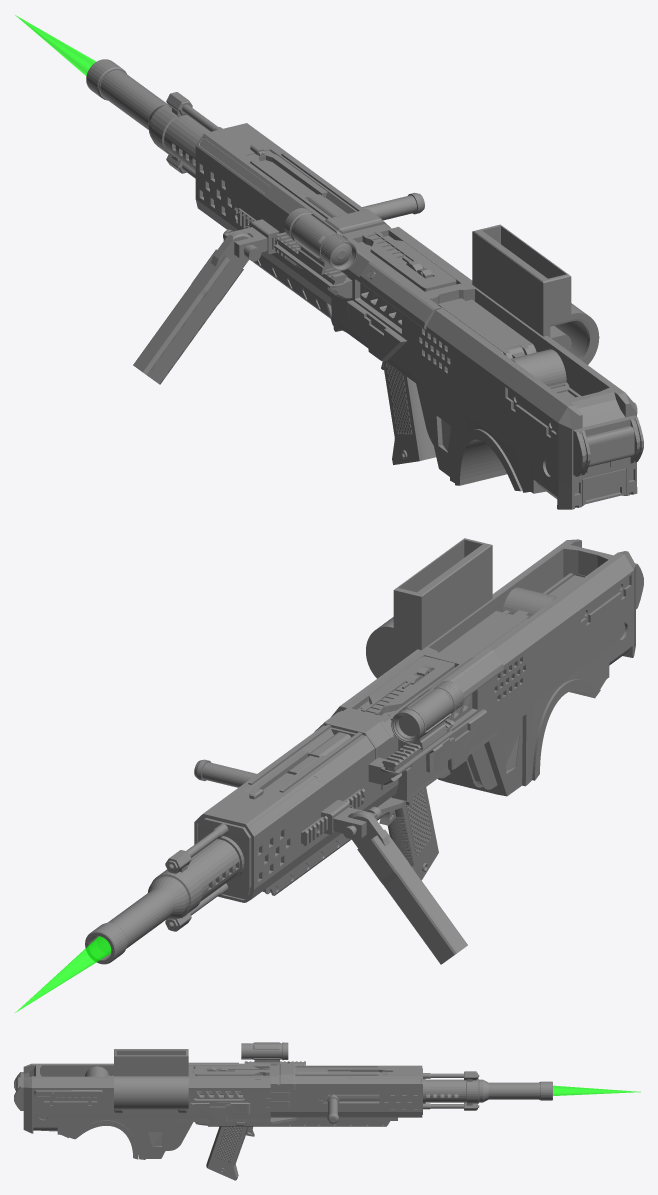
File: Autocannon.glb
The picture shows the model from 3 angles, top to bottom: view 1: azimuth 30°, elevation 25°; view 2: azimuth 150°, elevation 25°; view 3: azimuth 270°, elevation 25°; orthographic projection. The views are drawn at different scales.
Visible parts, largest first — view 1: Unfit_Autocannon_scale_model, Cone; view 2: Unfit_Autocannon_scale_model, Cone; view 3: Unfit_Autocannon_scale_model, Cone.
Part boxes in pixels (box(x1,y1,x2,y2)): Unfit_Autocannon_scale_model: box(86, 59, 643, 509); Cone: box(15, 15, 96, 76); Unfit_Autocannon_scale_model: box(85, 538, 643, 964); Cone: box(15, 936, 111, 1012); Unfit_Autocannon_scale_model: box(14, 1042, 552, 1180); Cone: box(553, 1085, 640, 1095).
Bounding box in the file's own units: 405 × 364 × 1531.
